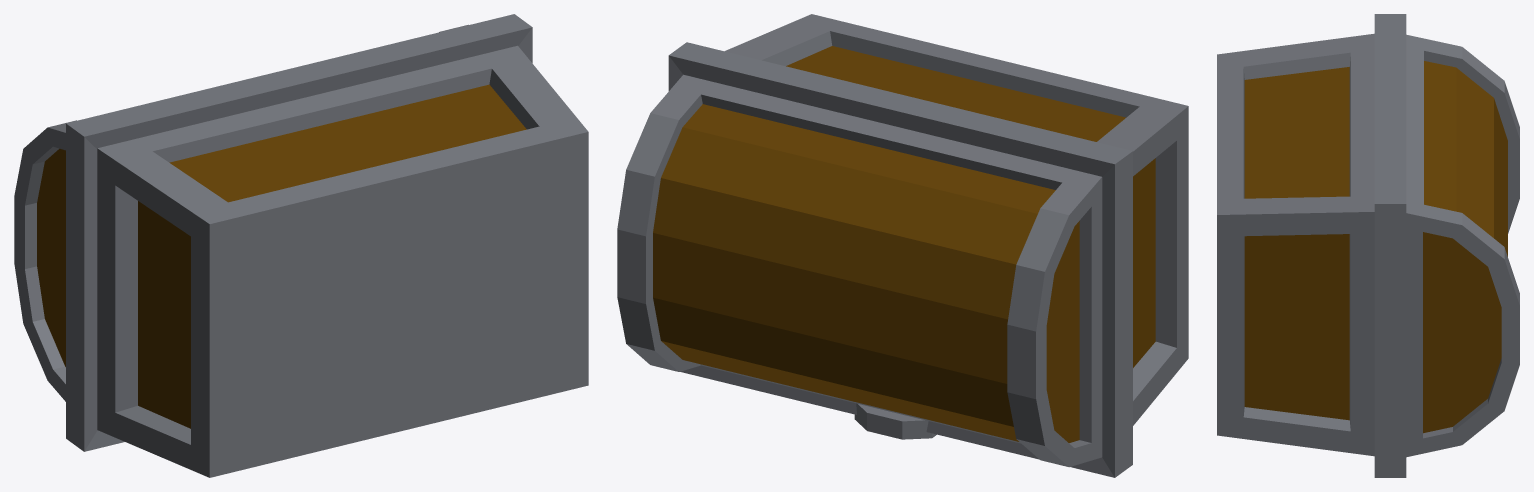
The model's file is FBX_Chest.fbx.
3 renders of one model, left to right at view 1: azimuth 30°, elevation 25°; view 2: azimuth 150°, elevation 25°; view 3: azimuth 270°, elevation 25°, orthographic. The views are drawn at different scales.
Visible parts, largest first — view 1: bottom-metal, top-metal, bottom-wood, top-wood; view 2: top-wood, top-metal, bottom-metal, bottom-wood; view 3: top-metal, bottom-metal, bottom-wood, top-wood.
Part boxes in pixels (x1,y1,x2,y2): bottom-metal: (97, 45, 588, 477); top-metal: (14, 14, 532, 451); bottom-wood: (138, 84, 526, 428); top-wood: (37, 148, 65, 366); top-wood: (653, 104, 1079, 442); top-metal: (617, 42, 1132, 477); bottom-metal: (725, 14, 1188, 425); bottom-wood: (786, 46, 1155, 367); top-metal: (1374, 14, 1519, 477); bottom-metal: (1217, 33, 1374, 456); bottom-wood: (1244, 67, 1349, 420); top-wood: (1423, 61, 1507, 433).
Bounding box in the file's own units: 87.91 × 60.27 × 59.19.
